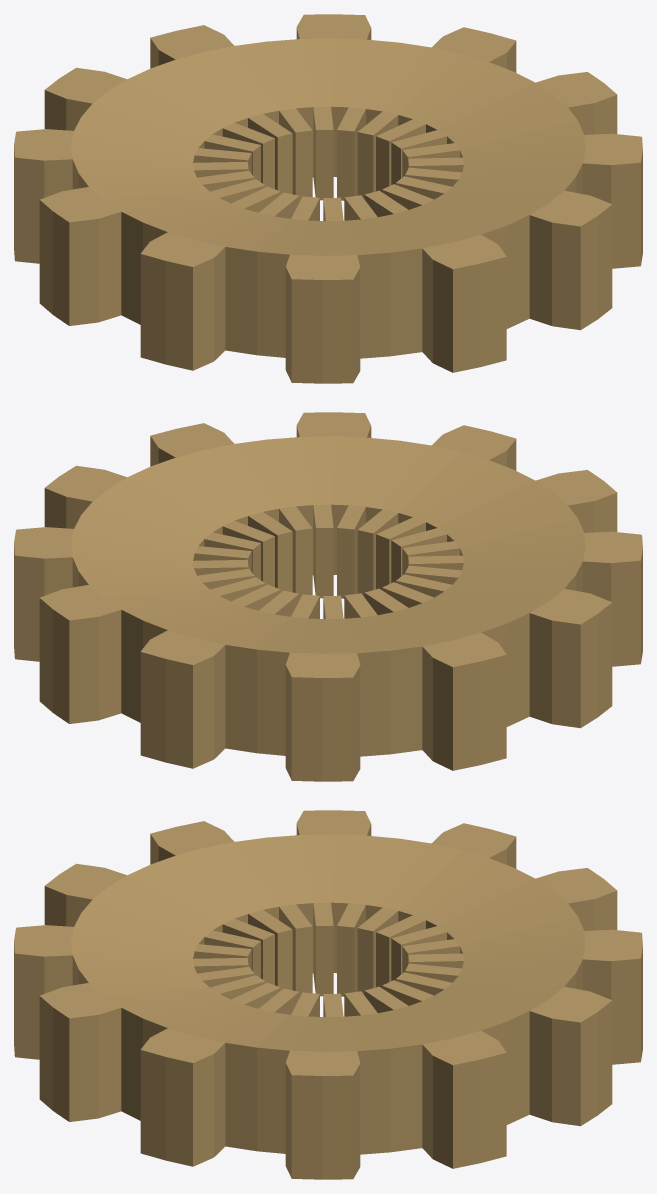
The model's file is Rouage3.fbx.
3 views of the same model, one above another, from view 1: azimuth 30°, elevation 25°; view 2: azimuth 150°, elevation 25°; view 3: azimuth 270°, elevation 25° (orthographic).
Parts seen in each view (by area): view 1: Gear.3; view 2: Gear.3; view 3: Gear.3.
Boxes of the visible parts, x1,y1,x2,y2 form: Gear.3: (14, 14, 642, 383); Gear.3: (14, 412, 642, 781); Gear.3: (14, 810, 642, 1179).
Size of the model in its own units: 21082 by 3834 by 21082.
